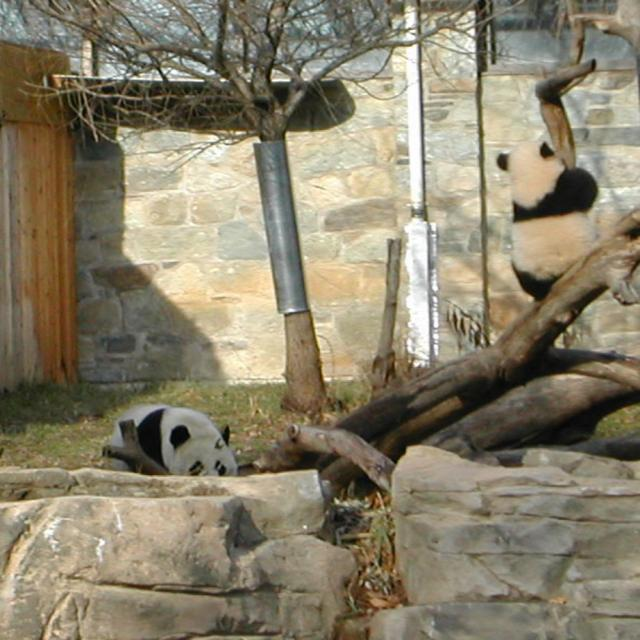panda: (490, 138, 597, 302), (103, 403, 241, 480)
